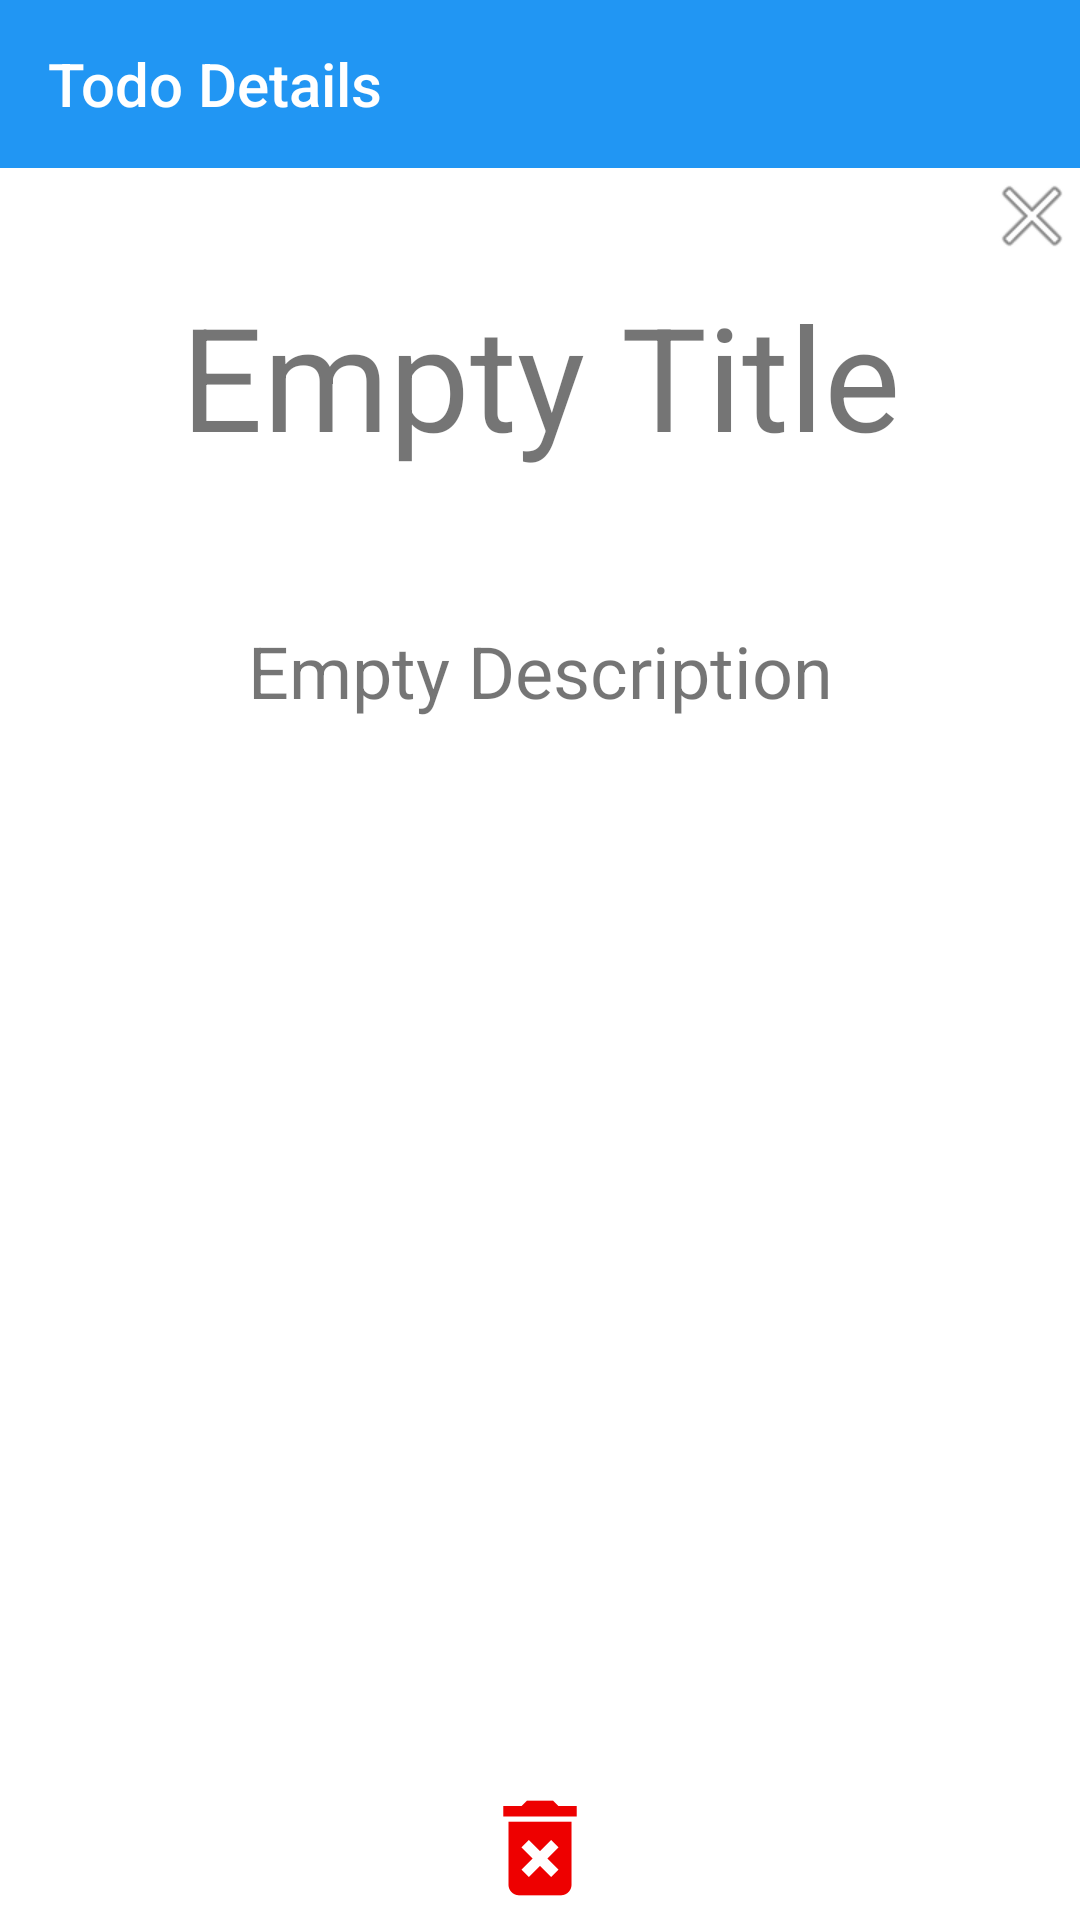

Icon bounding boxes for this 1080 × 1920 phone screenshot, format box=[x1, y1, x2, y2]:
close clear cancel: box=[1002, 186, 1062, 246]
deletedone: box=[503, 1800, 577, 1896]
